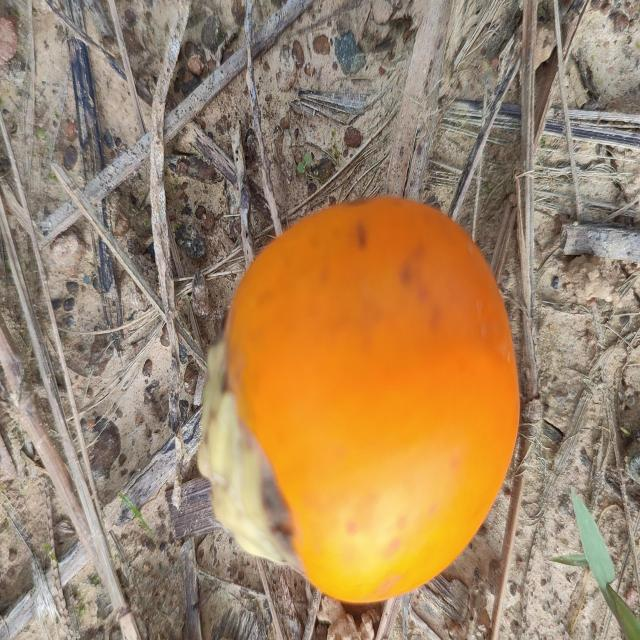good: (198, 196, 521, 609)
